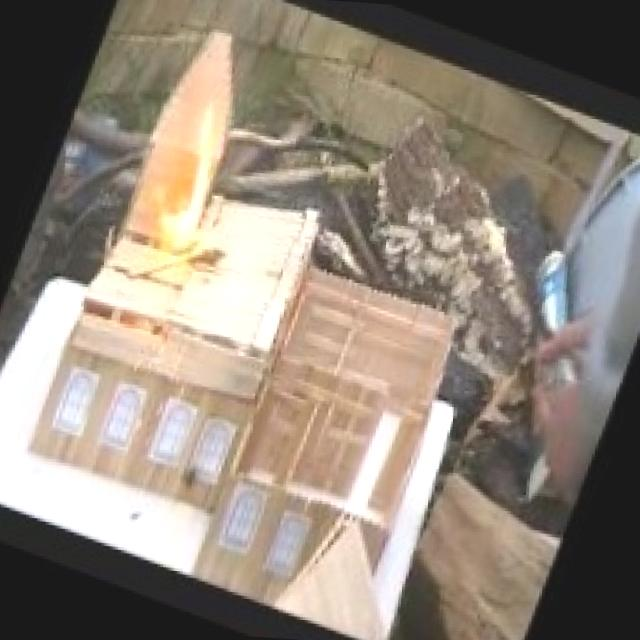fire: (109, 100, 252, 269)
